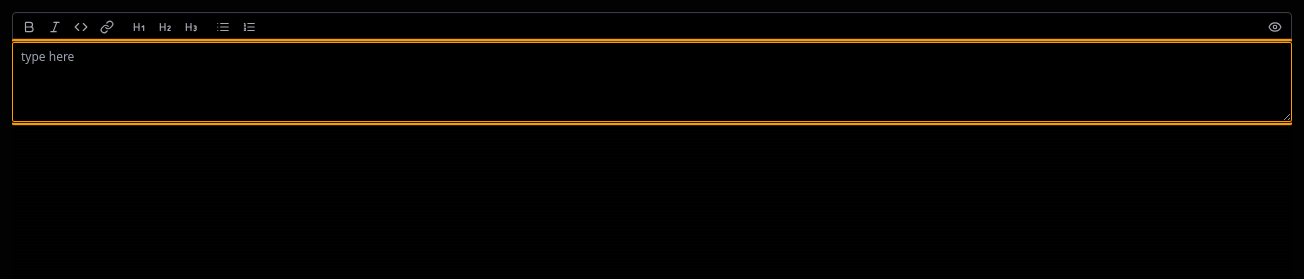
Test case: RichTextarea › opens a slash popup when typing `/` at the start of a line
Type "/" into the text box named "composer". click: (652, 82)
box: [12,42,1292,122]
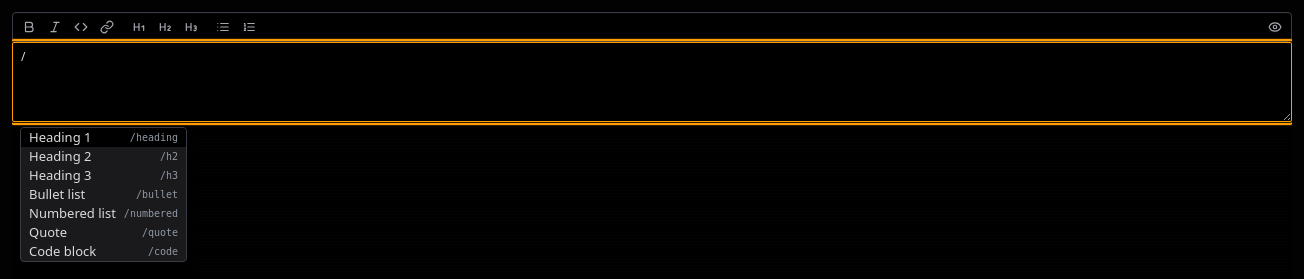
Check: the list named "Slash commands" is shown, box [20,127,187,262]
